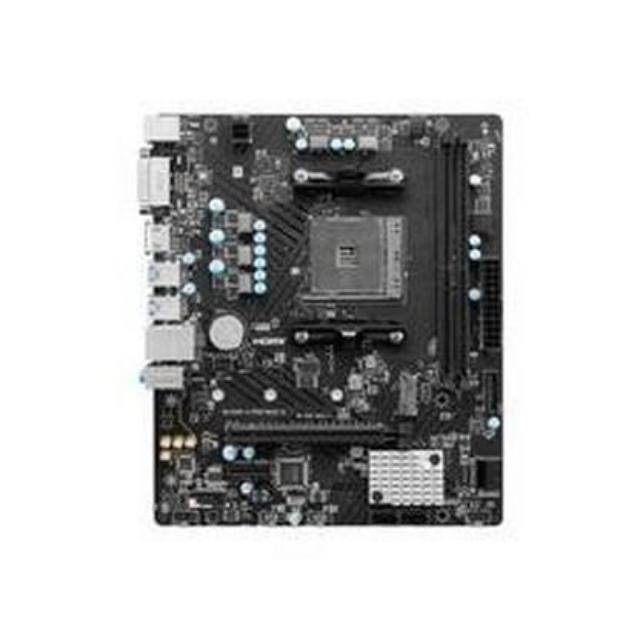Mainboard: (146, 114, 504, 528)
